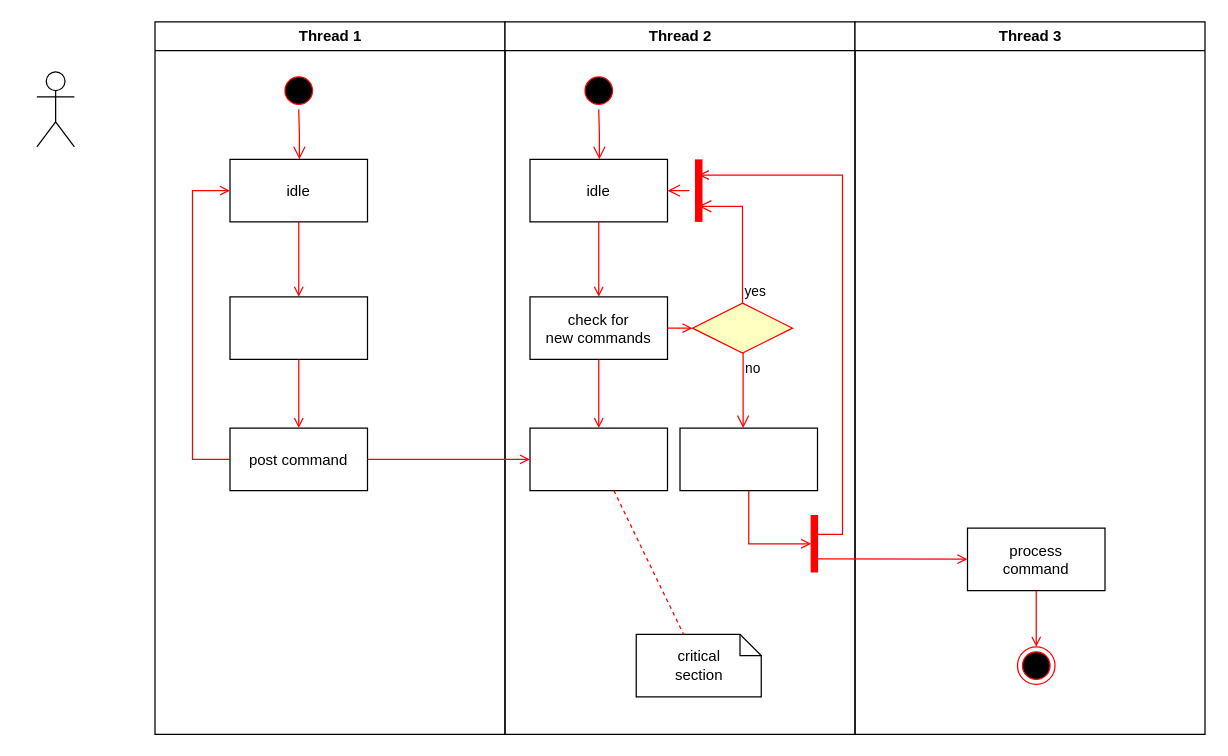
Image size: 1228x756. Some labels were removed from this diagram. Here are the shapes that lost their labels. From the top down, the box of each, then its label:
(36, 71, 74, 147): Pengguna
(229, 296, 368, 359): user action
(691, 302, 792, 353): queue empty
(529, 427, 668, 491): command queue
(679, 427, 818, 491): dispatch command worker thread
